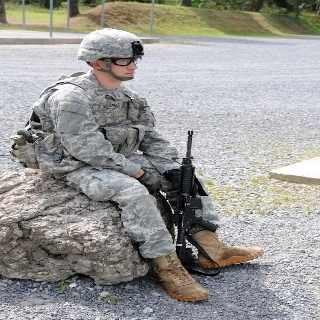rifle: (173, 130, 220, 265)
